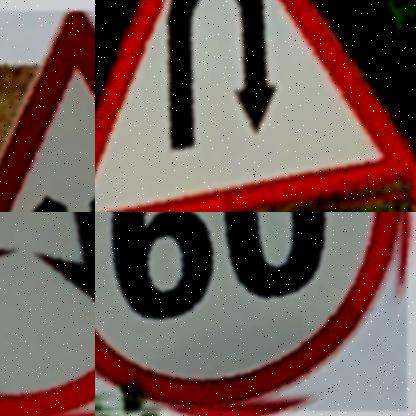Bridge Ahead: (0, 11, 95, 212)
Speed Limit -60 kmph-: (95, 212, 405, 410)
U-Turn: (95, 0, 416, 212)
